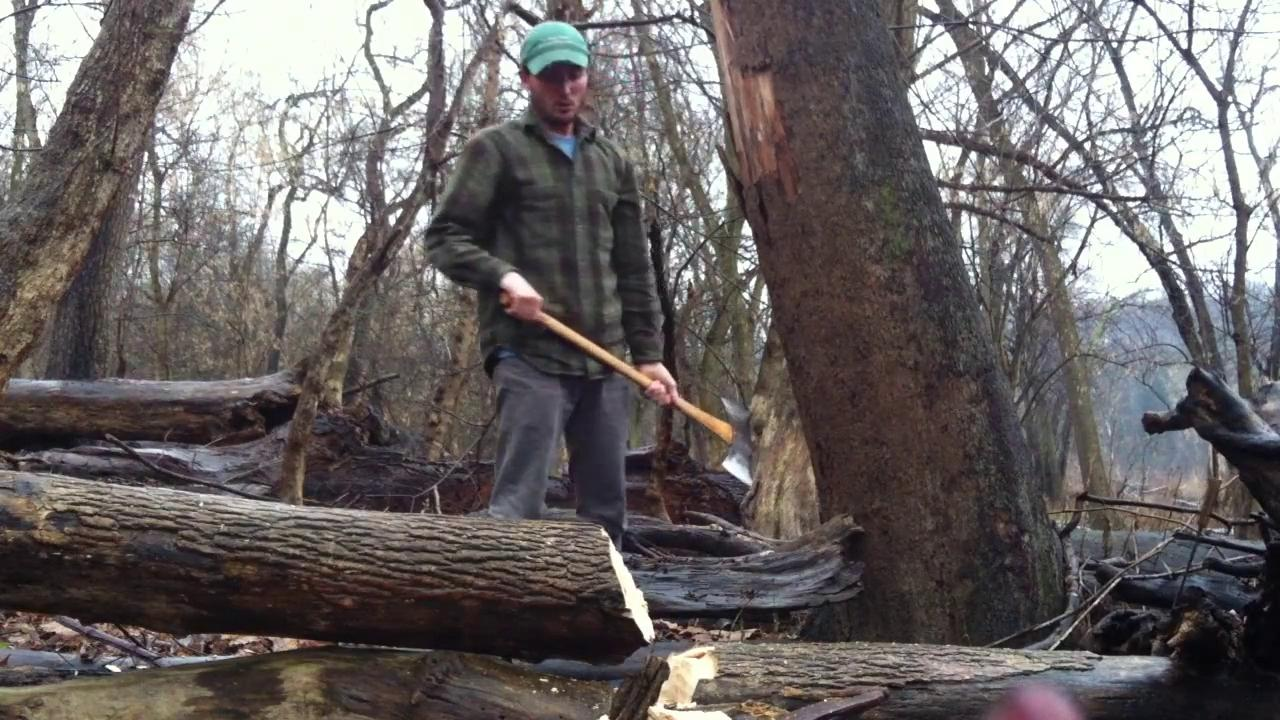victim: (418, 21, 678, 604)
